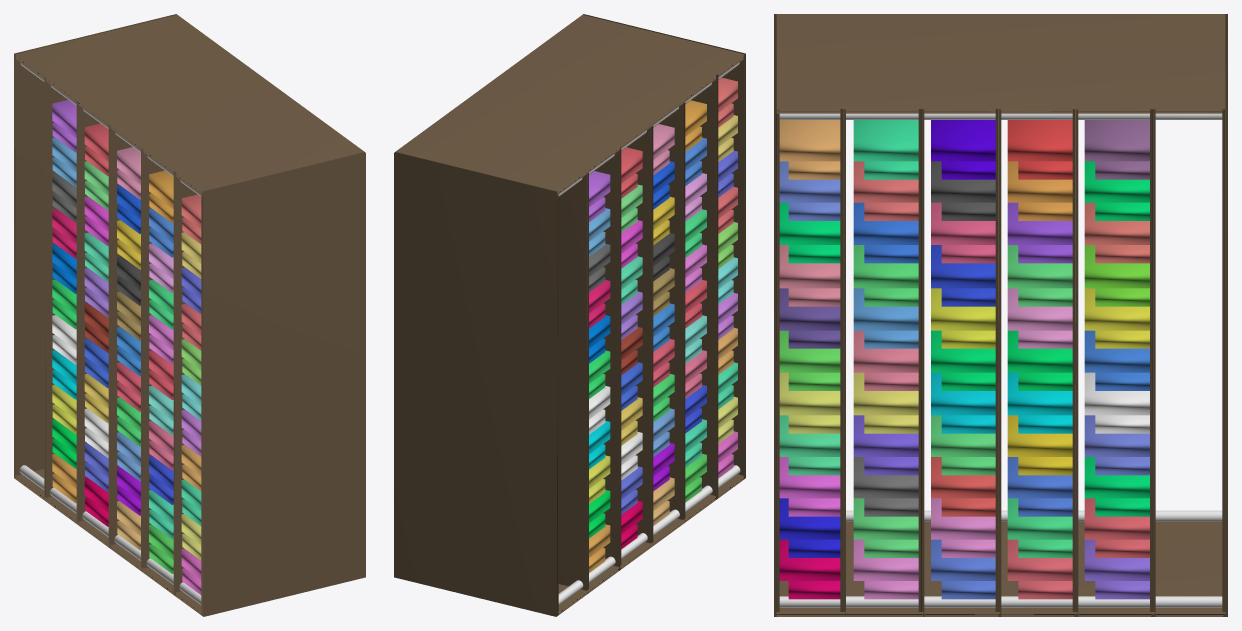
The model's file is BookShelfLowRes.fbx.
The picture shows the model from 3 angles, left to right: view 1: azimuth 30°, elevation 25°; view 2: azimuth 150°, elevation 25°; view 3: azimuth 270°, elevation 25°; orthographic projection. The views are drawn at different scales.
Visible parts, largest first — view 1: Cube_001, Cube_008, Cube, Cube_004, Cube_006, Cube_003, Cube_002, Cube_005, Cube_007, Cylinder_003, Cube_085, Cube_108 (+53 smaller); view 2: Cube, Cube_008, Cube_002, Cube_006, Cube_003, Cube_005, Cube_004, Cube_001, Cube_007, Cylinder_003, Cube_085, Cube_086 (+53 smaller); view 3: Cube_008, Cube_007, Cylinder, Cube_042, Cube_020, Cube_019, Cube_041, Cube_063, Cube_003, Cube_004, Cube_005, Cube (+55 smaller).
Part boxes in pixels (x1,y1,x2,y2): Cube_001: [201, 152, 365, 616]; Cube_008: [15, 14, 364, 194]; Cube: [14, 14, 176, 478]; Cube_004: [108, 124, 132, 548]; Cube_006: [173, 171, 197, 596]; Cube_003: [76, 100, 100, 524]; Cube_002: [44, 76, 67, 499]; Cube_005: [141, 148, 164, 571]; Cube_007: [15, 469, 202, 615]; Cylinder_003: [19, 465, 201, 604]; Cube_085: [149, 170, 173, 223]; Cube_108: [52, 100, 76, 152]; Cube: [394, 152, 558, 616]; Cube_008: [395, 14, 744, 195]; Cube_002: [558, 172, 588, 593]; Cube_006: [691, 74, 718, 499]; Cube_003: [595, 146, 621, 570]; Cube_005: [659, 102, 685, 519]; Cube_004: [627, 126, 653, 543]; Cube_001: [583, 14, 745, 478]; Cube_007: [557, 474, 744, 615]; Cylinder_003: [558, 465, 740, 604]; Cube_085: [685, 100, 706, 151]; Cube_086: [653, 124, 674, 174]; Cube_008: [776, 14, 1225, 113]; Cube_007: [776, 521, 1225, 616]; Cylinder: [779, 596, 1222, 607]; Cube_042: [853, 120, 918, 179]; Cube_020: [1007, 120, 1072, 179]; Cube_019: [1084, 120, 1149, 179]; Cube_041: [931, 120, 995, 179]; Cube_063: [779, 120, 840, 179]; Cube_003: [1072, 109, 1078, 616]; Cube_004: [995, 109, 1001, 616]; Cube_005: [918, 109, 924, 616]; Cube: [1222, 14, 1227, 616].
Size of the model in its own units: 4 by 10.01 by 8.1.
